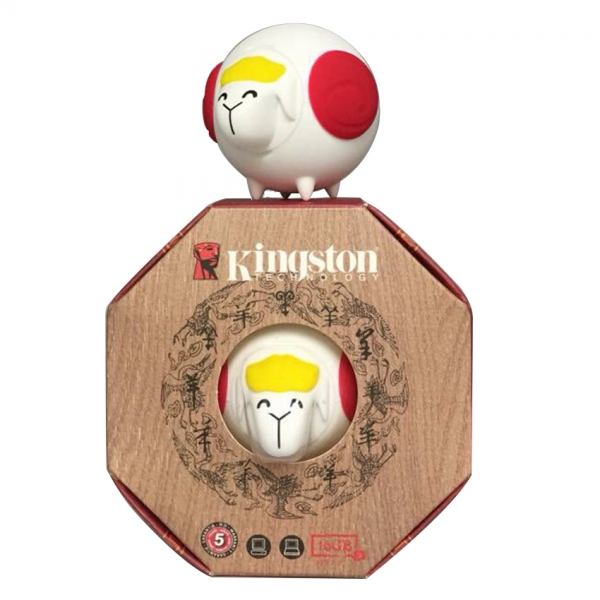Kingston: (184, 229, 387, 295)
